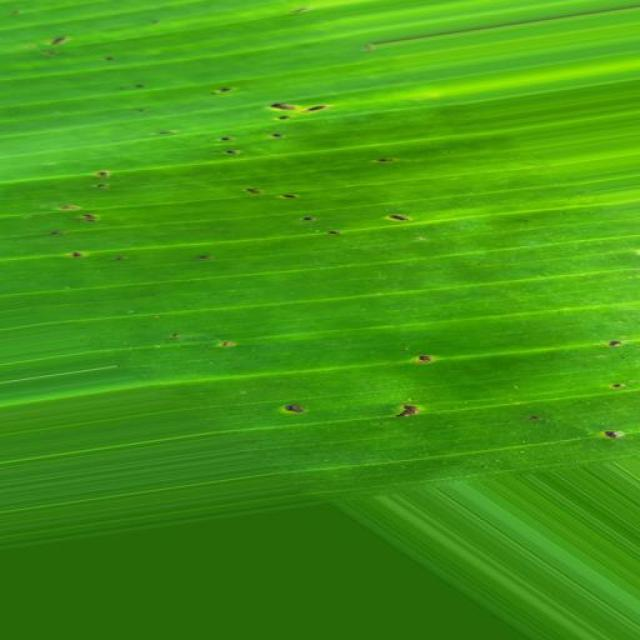Black_rot: (189, 73, 463, 258), (39, 24, 169, 116), (73, 153, 122, 291), (590, 326, 632, 471), (400, 330, 445, 431), (261, 368, 322, 441)
